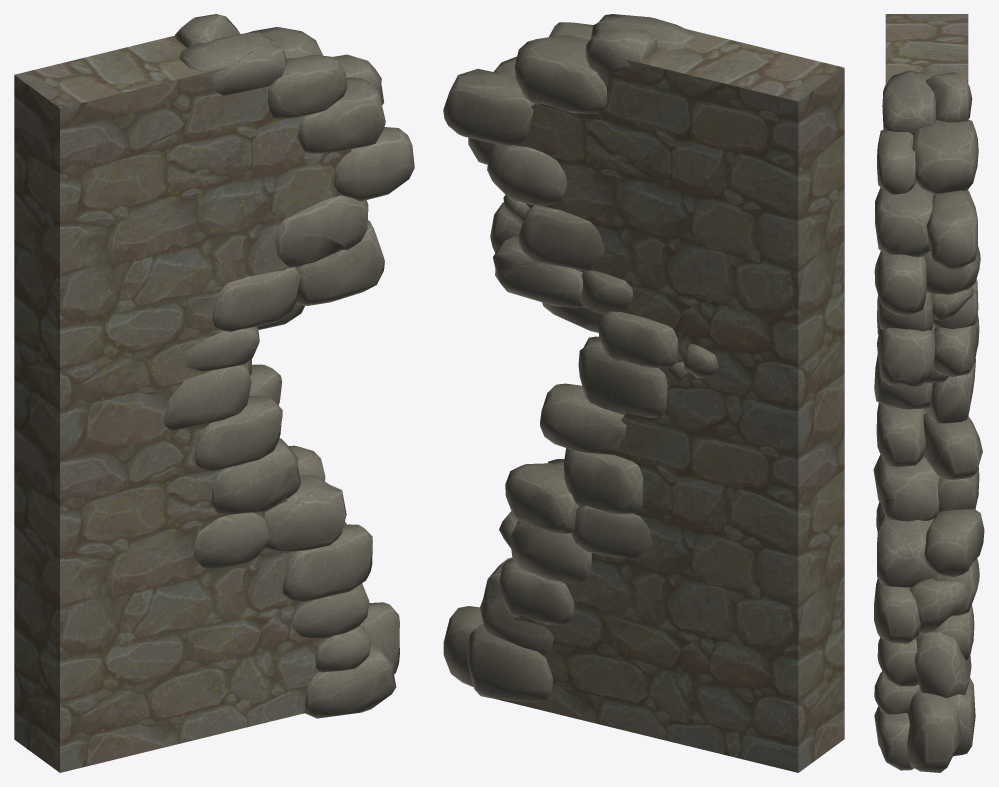
The model's file is SM_FW01_Ruins_Int_Wall_A_2x4_Brkn_R_02.fbx.
3 renders of one model, left to right at view 1: azimuth 30°, elevation 25°; view 2: azimuth 150°, elevation 25°; view 3: azimuth 270°, elevation 25°, orthographic. The views are drawn at different scales.
Visible parts, largest first — view 1: SM_FW01_Ruins_Int_Wall_A_2x4_Brkn_R_02, SM_FW01_Ruins_Int_Wall_A_2x4_Brkn_R_02_LOD0; view 2: SM_FW01_Ruins_Int_Wall_A_2x4_Brkn_R_02, SM_FW01_Ruins_Int_Wall_A_2x4_Brkn_R_02_LOD0; view 3: SM_FW01_Ruins_Int_Wall_A_2x4_Brkn_R_02_LOD0, SM_FW01_Ruins_Int_Wall_A_2x4_Brkn_R_02.
Boxes of the visible parts, x1,y1,x2,y2 form: SM_FW01_Ruins_Int_Wall_A_2x4_Brkn_R_02: (14,35,351,772); SM_FW01_Ruins_Int_Wall_A_2x4_Brkn_R_02_LOD0: (163,14,414,718); SM_FW01_Ruins_Int_Wall_A_2x4_Brkn_R_02: (488,29,844,772); SM_FW01_Ruins_Int_Wall_A_2x4_Brkn_R_02_LOD0: (443,14,718,701); SM_FW01_Ruins_Int_Wall_A_2x4_Brkn_R_02_LOD0: (873,70,984,772); SM_FW01_Ruins_Int_Wall_A_2x4_Brkn_R_02: (885,14,968,520).
Size of what is drawn, in the model's own units: 2.29 by 4.19 by 0.6712.
